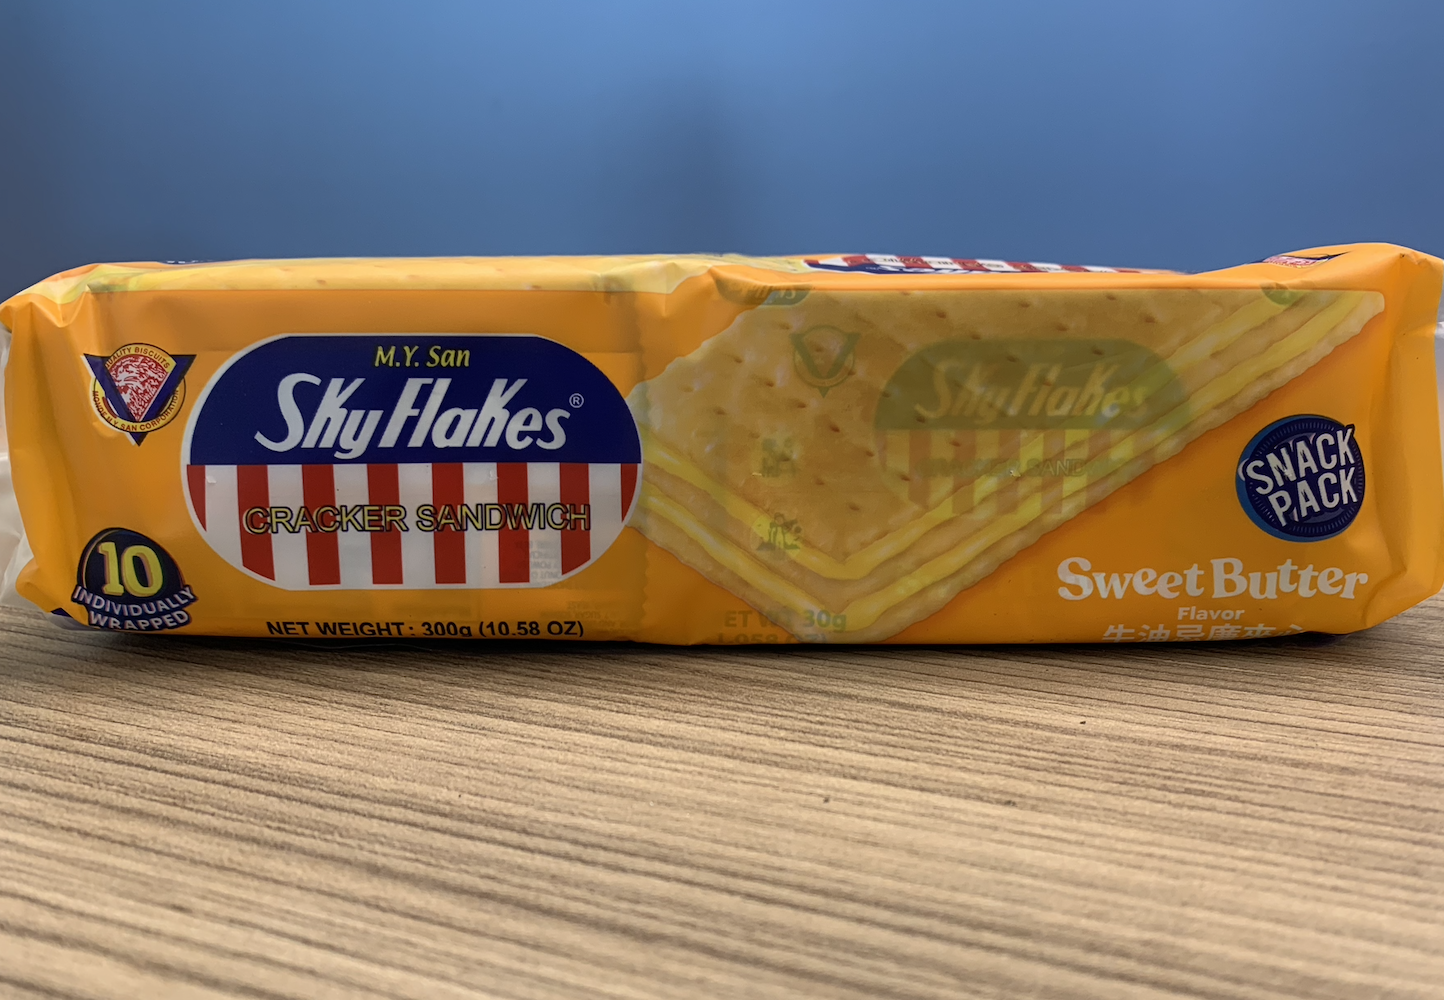crackers_300g-399g: (80, 289, 1373, 622)
